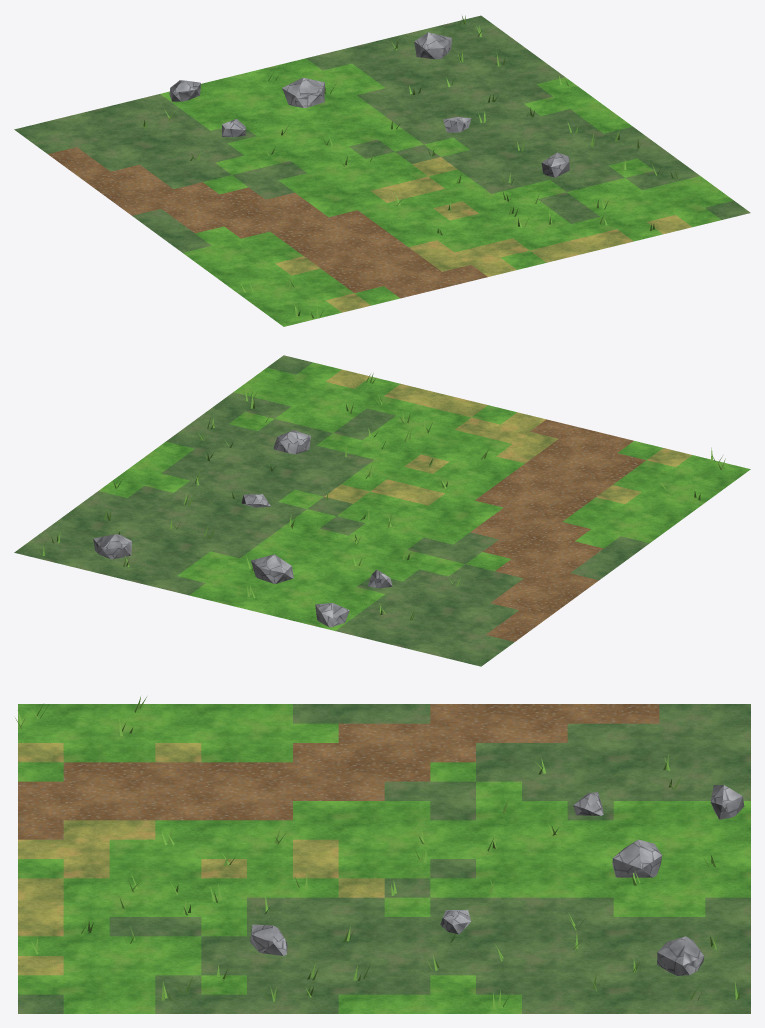
The model's file is chunk_8_3.glb.
3 views of the same model, one above another, from view 1: azimuth 30°, elevation 25°; view 2: azimuth 150°, elevation 25°; view 3: azimuth 270°, elevation 25° (orthographic). The views are drawn at different scales.
Visible parts, largest first — view 1: chunk_8_3; view 2: chunk_8_3; view 3: chunk_8_3.
Boxes of the visible parts, x1,y1,x2,y2 form: chunk_8_3: [14, 15, 750, 326]; chunk_8_3: [14, 355, 750, 666]; chunk_8_3: [15, 696, 750, 1013].
Size of the model in its own units: 16 by 1.11 by 16.09.
Materials: 6 (5 with a texture image).
